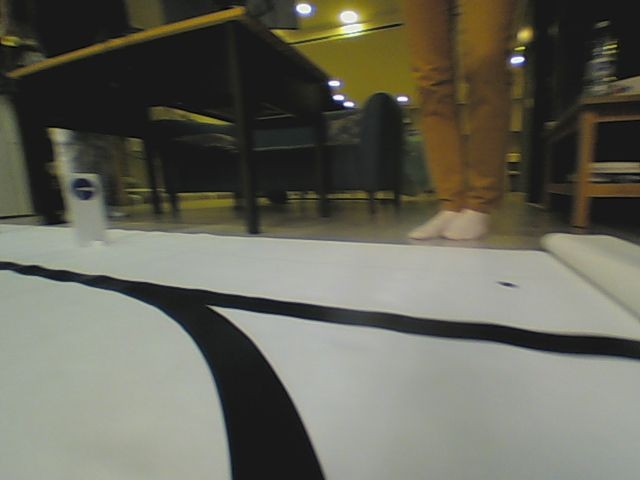Right: (70, 176, 97, 202)
